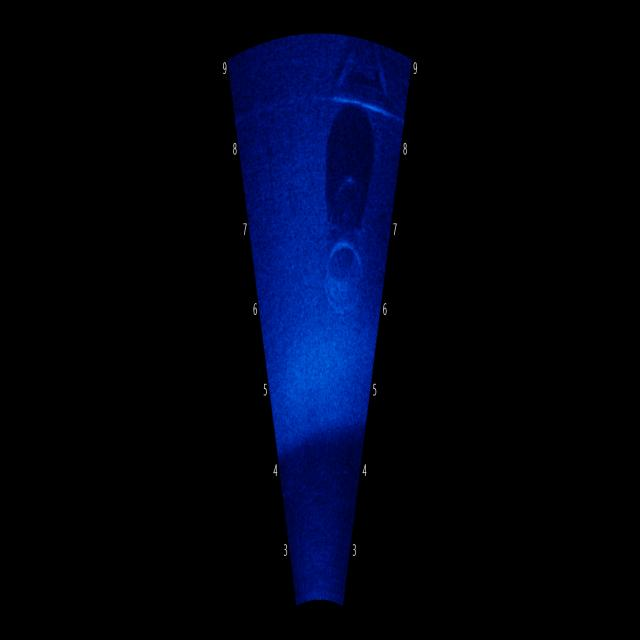circle: (314, 193, 370, 345)
